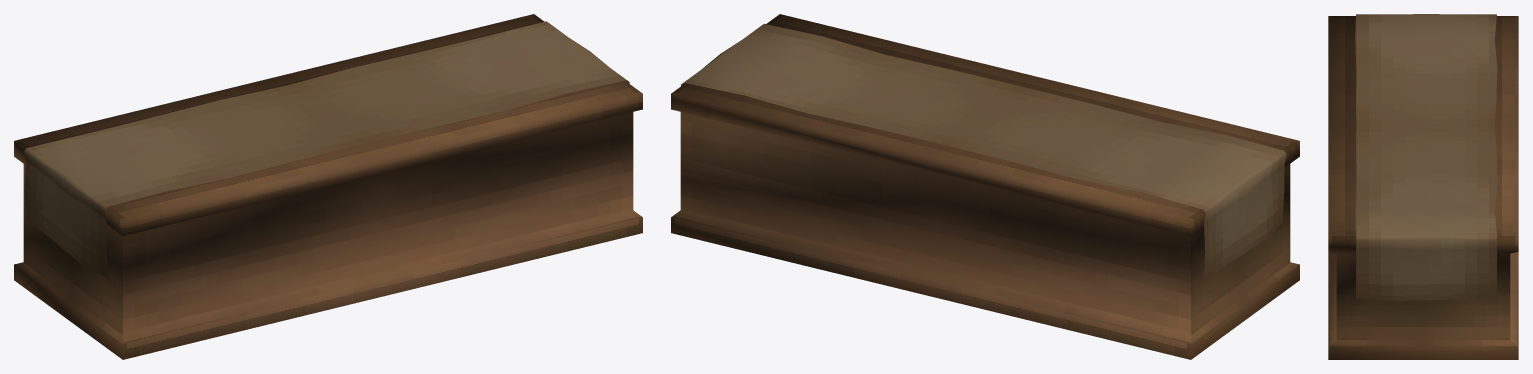
File: aventine_shop_table_00.glb
3 views of the same model, side by side, from view 1: azimuth 30°, elevation 25°; view 2: azimuth 150°, elevation 25°; view 3: azimuth 270°, elevation 25° (orthographic). The views are drawn at different scales.
Visible parts, largest first — view 1: shop_table, shop_table_cloth; view 2: shop_table, shop_table_cloth; view 3: shop_table_cloth, shop_table.
Boxes of the visible parts, left/top/right/bottom form: shop_table: left=14, top=14, right=642, bottom=359; shop_table_cloth: left=24, top=21, right=629, bottom=278; shop_table: left=671, top=14, right=1299, bottom=359; shop_table_cloth: left=681, top=24, right=1286, bottom=281; shop_table_cloth: left=1355, top=14, right=1497, bottom=301; shop_table: left=1328, top=16, right=1518, bottom=359.
Size of the model in its own units: 2.78 by 0.7165 by 0.9918.
1 material, 1 textured.
